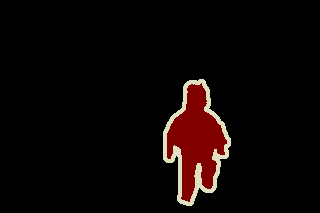person: (165, 85, 227, 203)
